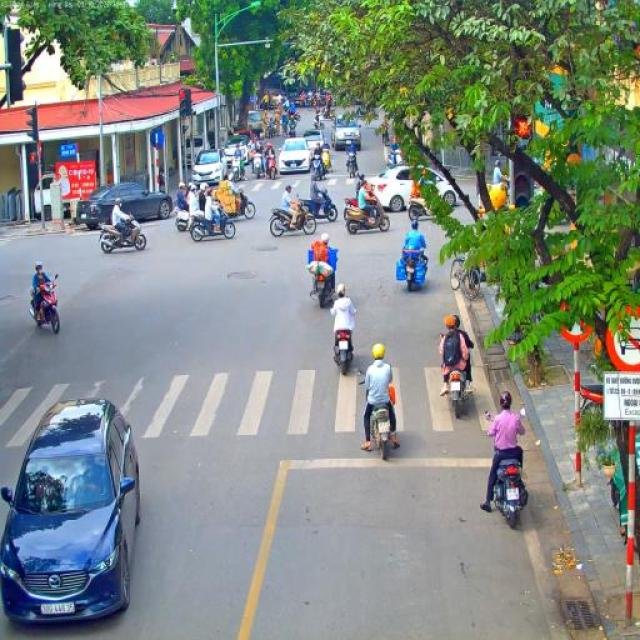car: (0, 398, 142, 629), (76, 181, 173, 230), (370, 164, 466, 212), (192, 150, 226, 190), (330, 111, 362, 152), (278, 136, 312, 174), (223, 134, 249, 166), (301, 128, 328, 156)
motorcycle: (486, 408, 528, 528), (359, 370, 400, 460), (436, 332, 470, 418), (98, 212, 148, 254), (307, 246, 338, 308), (29, 274, 61, 334), (270, 198, 318, 238), (189, 202, 236, 242), (343, 198, 391, 234), (174, 192, 210, 232), (298, 188, 338, 223), (220, 188, 256, 221), (402, 248, 428, 292), (332, 326, 353, 376), (408, 196, 434, 222), (343, 188, 372, 208), (228, 157, 247, 183), (264, 153, 280, 181), (250, 150, 265, 178), (308, 154, 324, 180), (346, 151, 359, 178), (387, 148, 404, 166), (321, 150, 333, 174), (313, 113, 325, 131), (266, 118, 276, 138), (288, 120, 298, 138), (381, 126, 390, 146), (355, 109, 365, 125), (292, 110, 302, 124), (281, 119, 288, 135)
truck: (474, 61, 640, 220), (238, 110, 263, 139)
